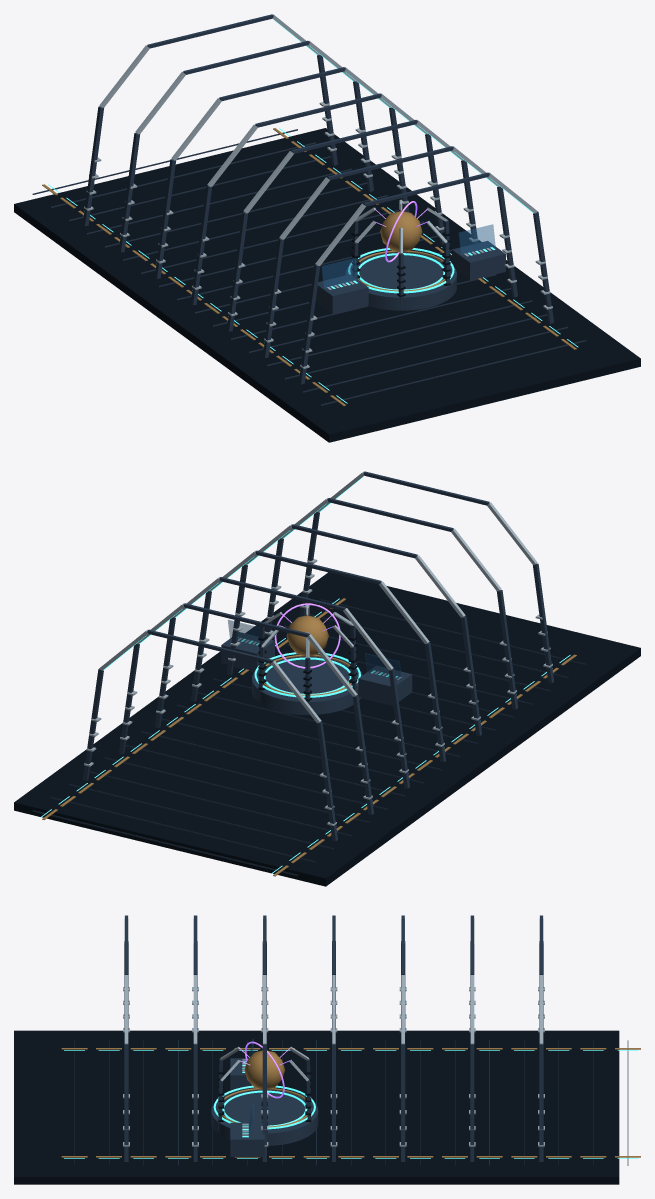
Rendered from forge-mobile.glb.
The picture shows the model from 3 angles, top to bottom: view 1: azimuth 30°, elevation 25°; view 2: azimuth 150°, elevation 25°; view 3: azimuth 270°, elevation 25°; orthographic projection. The views are drawn at different scales.
Parts seen in each view (by area): view 1: object 1, architectural-heart, fabrication-heart, object 87, object 177, object 132, object 117, object 147, object 162, object 102, object 94, object 109 (+7 smaller); view 2: object 1, architectural-heart, fabrication-heart, object 177, object 132, object 87, object 162, object 102, object 117, object 147, object 184, object 169 (+10 smaller); view 3: object 1, architectural-heart, fabrication-heart, object 94, object 184, object 109, object 154, object 169, object 124, object 139.
Part boxes in pixels (x1=…): object 1: x1=14, y1=128, x2=640, y2=442; architectural-heart: x1=315, y1=200, x2=505, y2=313; fabrication-heart: x1=380, y1=211, x2=422, y2=251; object 87: x1=299, y1=264, x2=320, y2=384; object 177: x1=82, y1=106, x2=103, y2=225; object 132: x1=191, y1=185, x2=212, y2=305; object 117: x1=227, y1=212, x2=248, y2=331; object 147: x1=155, y1=159, x2=176, y2=278; object 162: x1=119, y1=132, x2=140, y2=252; object 102: x1=263, y1=238, x2=284, y2=357; object 94: x1=533, y1=211, x2=553, y2=323; object 109: x1=497, y1=186, x2=517, y2=297; object 1: x1=14, y1=572, x2=640, y2=886; architectural-heart: x1=221, y1=603, x2=412, y2=714; fabrication-heart: x1=286, y1=615, x2=328, y2=656; object 177: x1=316, y1=721, x2=337, y2=841; object 132: x1=424, y1=642, x2=445, y2=762; object 87: x1=533, y1=563, x2=553, y2=683; object 162: x1=352, y1=695, x2=373, y2=814; object 102: x1=496, y1=590, x2=517, y2=709; object 117: x1=461, y1=616, x2=481, y2=735; object 147: x1=388, y1=669, x2=409, y2=788; object 184: x1=83, y1=668, x2=103, y2=780; object 169: x1=119, y1=644, x2=139, y2=754; object 1: x1=14, y1=1030, x2=619, y2=1184; architectural-heart: x1=211, y1=1039, x2=318, y2=1156; fabrication-heart: x1=244, y1=1050, x2=284, y2=1089; object 94: x1=124, y1=1044, x2=128, y2=1161; object 184: x1=539, y1=1044, x2=543, y2=1161; object 109: x1=193, y1=1044, x2=197, y2=1161; object 154: x1=401, y1=1044, x2=405, y2=1161; object 169: x1=470, y1=1044, x2=474, y2=1161; object 124: x1=262, y1=1044, x2=266, y2=1161; object 139: x1=332, y1=1044, x2=335, y2=1161.
Bounding box in the file's own units: 20 × 10.64 × 36.25.
